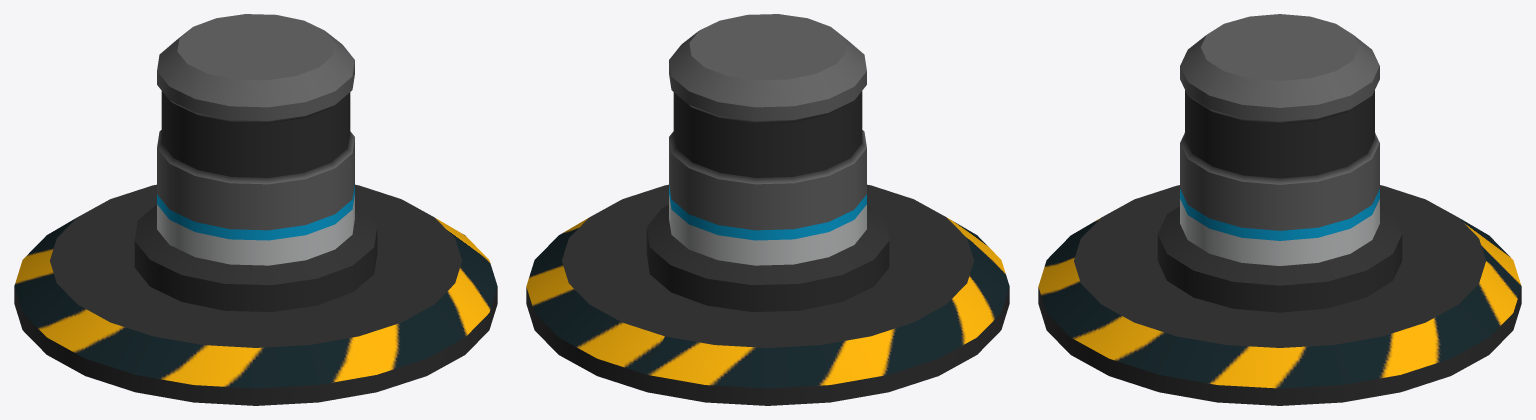
The model's file is Turret_003.fbx.
3 views of the same model, side by side, from view 1: azimuth 30°, elevation 25°; view 2: azimuth 150°, elevation 25°; view 3: azimuth 270°, elevation 25° (orthographic).
Visible parts, largest first — view 1: Turret_003; view 2: Turret_003; view 3: Turret_003.
Part boxes in pixels (x1,y1,x2,y2): Turret_003: (14, 14, 497, 405); Turret_003: (526, 14, 1009, 405); Turret_003: (1038, 14, 1521, 405).
Size of the model in its own units: 159 by 159 by 92.96.
